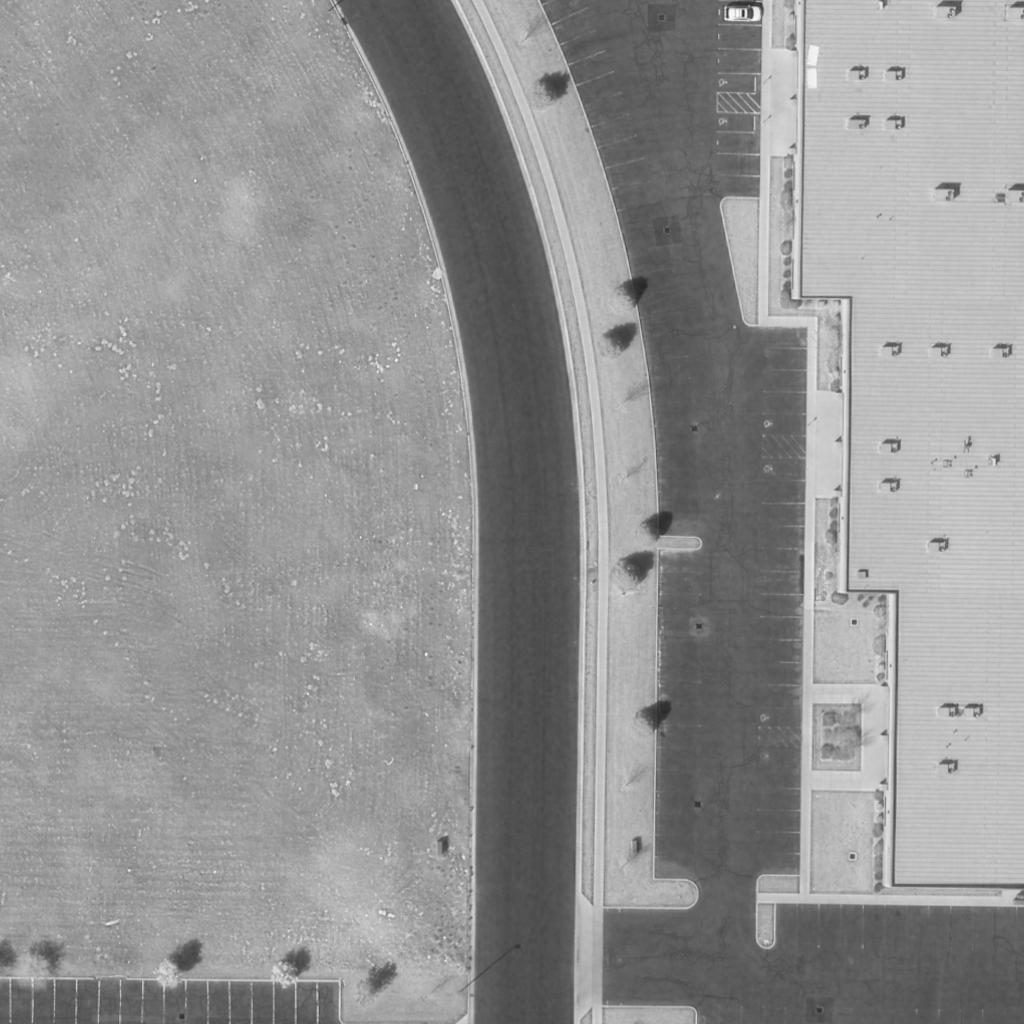vehicle: (723, 6, 763, 22)
